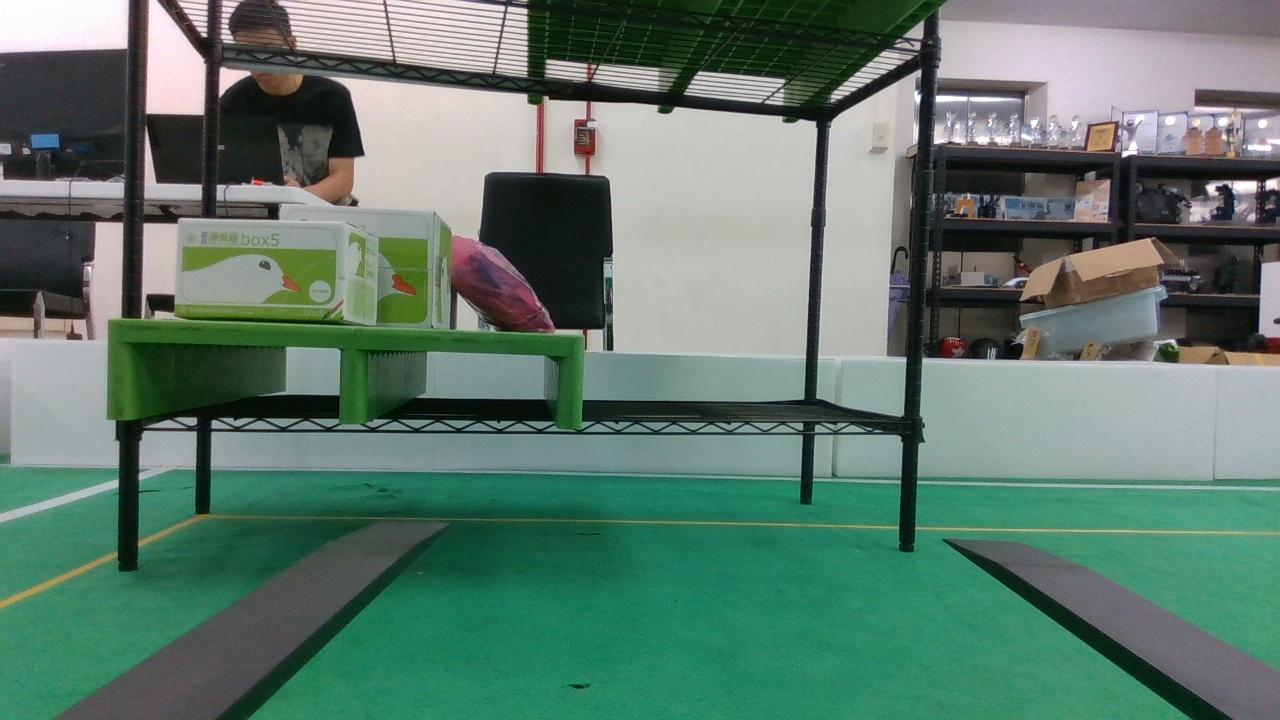Pallet: (107, 317, 585, 436)
